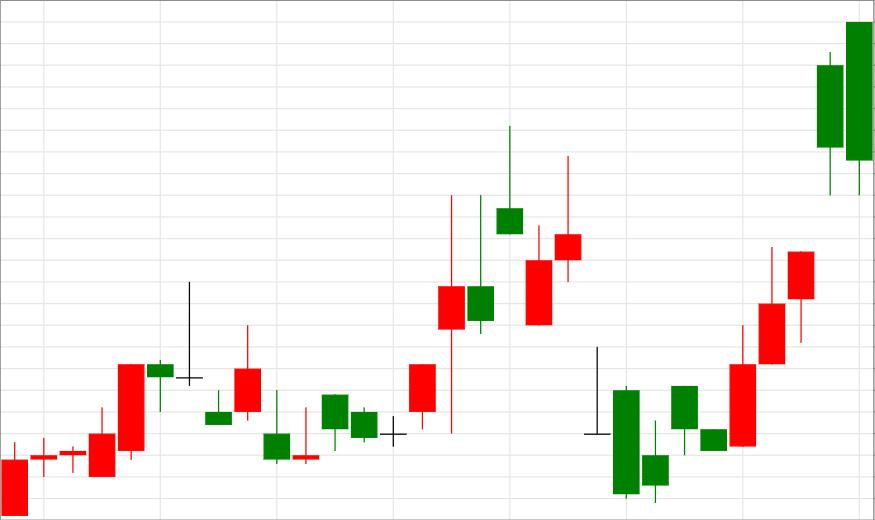shooting_star_fall: (292, 126, 522, 464)
